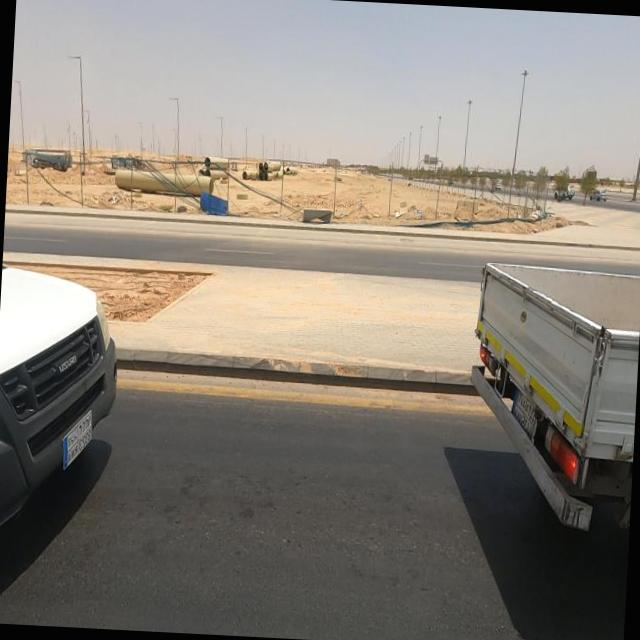debris: (519, 190, 569, 243), (92, 179, 140, 222), (381, 178, 418, 232), (412, 192, 436, 234)
